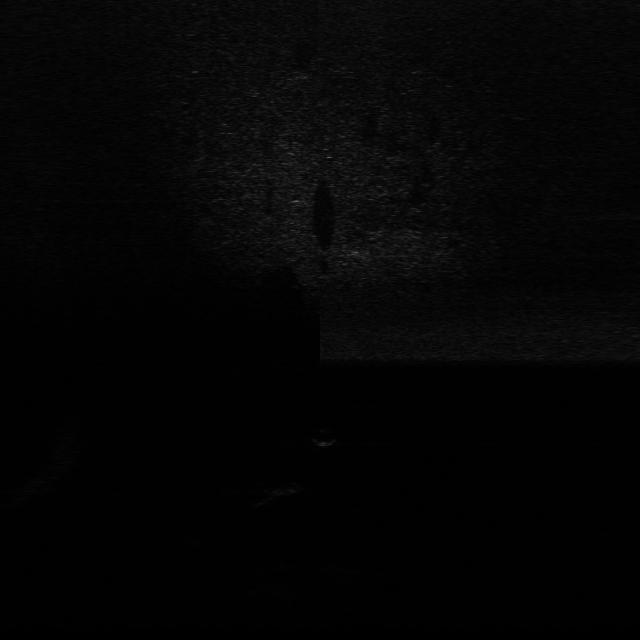ball: (307, 422, 344, 448)
square cage: (262, 477, 310, 498)
